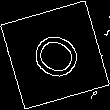O_SE: (22, 24, 88, 86)
